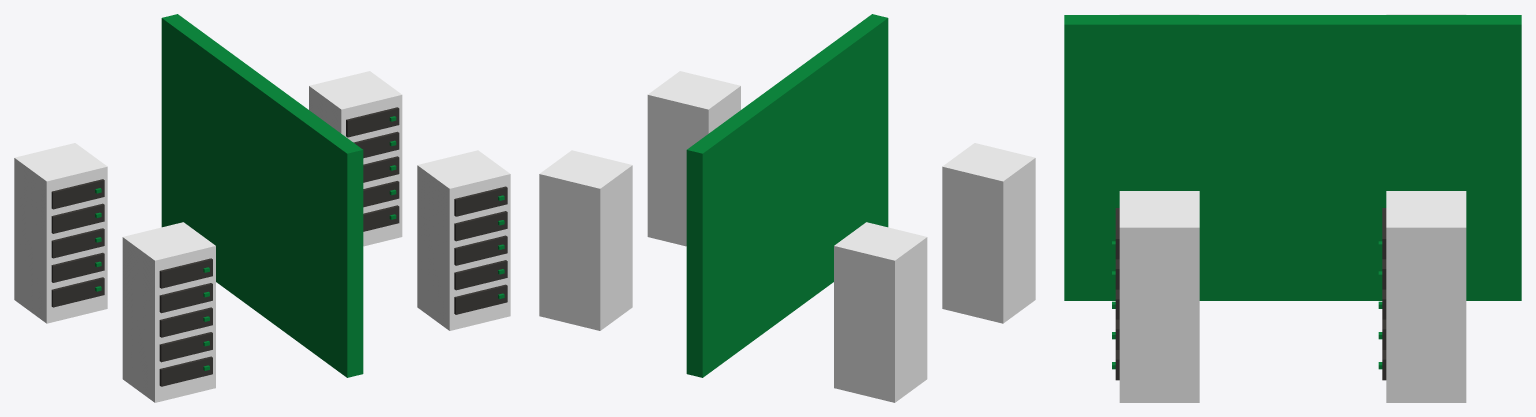
File: P2_network_segmentation.glb
3 views of the same model, side by side, from view 1: azimuth 30°, elevation 25°; view 2: azimuth 150°, elevation 25°; view 3: azimuth 270°, elevation 25° (orthographic). The views are drawn at different scales.
Parts seen in each view (by area): view 1: segmentation-wall_green, instance_white, instance_ink, instance_green; view 2: instance_white, segmentation-wall_green; view 3: segmentation-wall_green, instance_white, instance_ink.
Boxes of the visible parts, x1=… form: segmentation-wall_green: x1=161, y1=14, x2=363, y2=377; instance_white: x1=14, y1=71, x2=510, y2=402; instance_ink: x1=51, y1=107, x2=507, y2=386; instance_green: x1=95, y1=116, x2=504, y2=370; instance_white: x1=539, y1=71, x2=1035, y2=402; segmentation-wall_green: x1=686, y1=14, x2=888, y2=377; segmentation-wall_green: x1=1064, y1=15, x2=1521, y2=300; instance_white: x1=1119, y1=14, x2=1466, y2=402; instance_ink: x1=1115, y1=208, x2=1386, y2=380.
Bounding box in the file's own units: 1.33 × 0.8 × 1.2.
